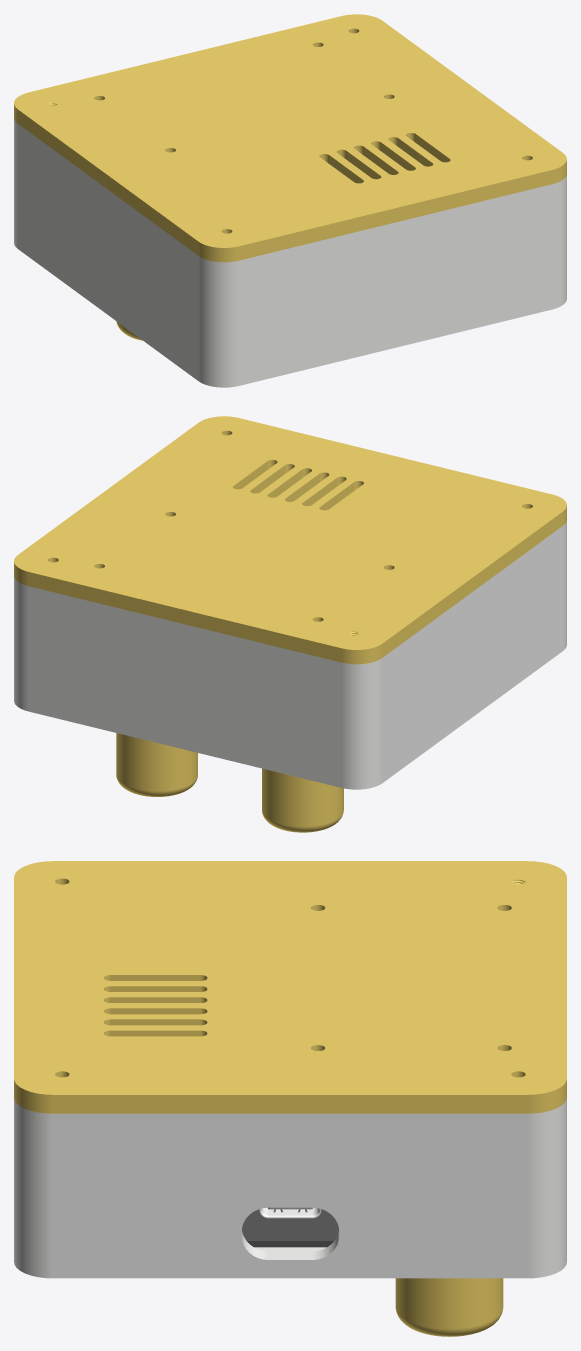
File: auraeyez.glb
3 views of the same model, one above another, from view 1: azimuth 30°, elevation 25°; view 2: azimuth 150°, elevation 25°; view 3: azimuth 270°, elevation 25° (orthographic). The views are drawn at different scales.
Parts seen in each view (by area): view 1: Plate.001, Up.001; view 2: Plate.001, Up.001, Body1.008, Body1.009; view 3: Plate.001, Up.001, Body1.009, Body3.002, Body1.001.
Part boxes in pixels (left/top/right/bottom): Plate.001: left=14, top=14, right=566, bottom=262; Up.001: left=14, top=118, right=566, bottom=387; Plate.001: left=14, top=416, right=566, bottom=664; Up.001: left=14, top=520, right=566, bottom=789; Body1.008: left=262, top=768, right=343, bottom=832; Body1.009: left=116, top=733, right=197, bottom=796; Plate.001: left=14, top=861, right=566, bottom=1113; Up.001: left=14, top=1098, right=566, bottom=1278; Body1.009: left=395, top=1278, right=503, bottom=1336; Body3.002: left=242, top=1209, right=338, bottom=1247; Body1.001: left=259, top=1207, right=321, bottom=1218.
Bounding box in the file's own units: 0.08 × 0.0469 × 0.08.
